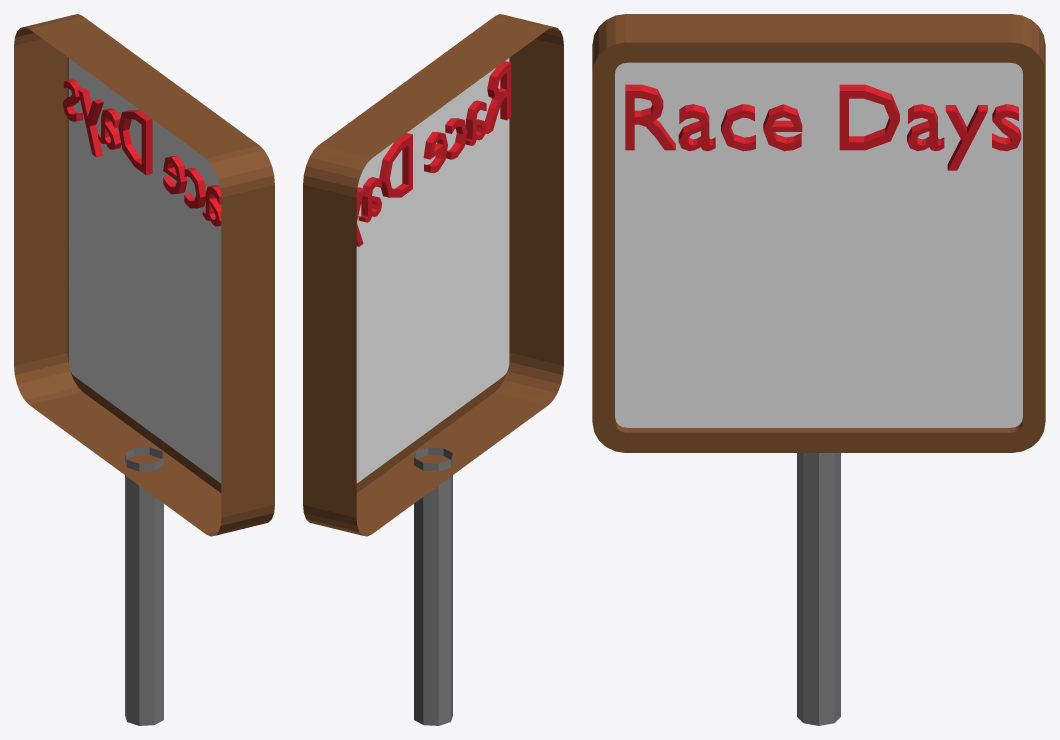
File: sign.fbx
3 renders of one model, left to right at view 1: azimuth 30°, elevation 25°; view 2: azimuth 150°, elevation 25°; view 3: azimuth 270°, elevation 25°, orthographic. The views are drawn at different scales.
Parts seen in each view (by area): view 1: Text; view 2: Text; view 3: Text.
Part boxes in pixels (<box>): Text: <box>14,14,274,725</box>; Text: <box>303,14,563,725</box>; Text: <box>592,14,1045,725</box>.
Size of the model in its own units: 31.31 by 335 by 200.
